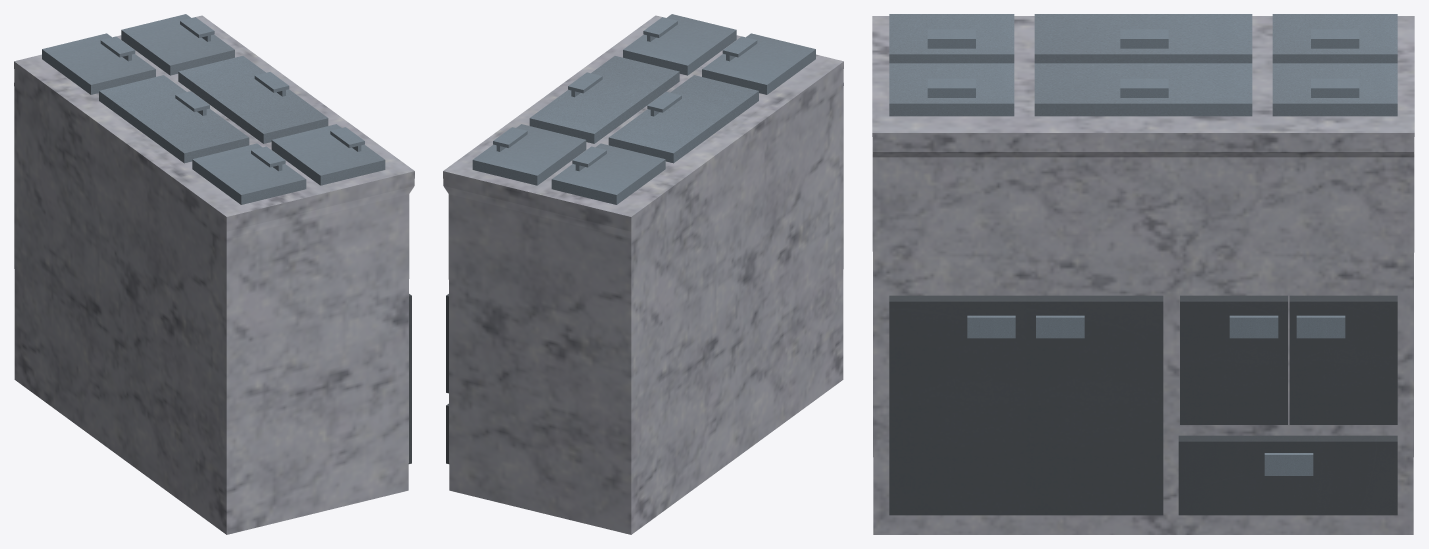
Rendered from kitchen_counter.fbx.
3 views of the same model, side by side, from view 1: azimuth 30°, elevation 25°; view 2: azimuth 150°, elevation 25°; view 3: azimuth 270°, elevation 25° (orthographic). The views are drawn at different scales.
Visible parts, largest first — view 1: kitchen_counter; view 2: kitchen_counter; view 3: kitchen_counter.
Boxes of the visible parts, bbox=[...] form: kitchen_counter: bbox=[14, 14, 414, 534]; kitchen_counter: bbox=[443, 14, 843, 534]; kitchen_counter: bbox=[872, 14, 1414, 534].
Bounding box in the file's own units: 77.47 × 125 × 142.
1 material, 1 textured.
